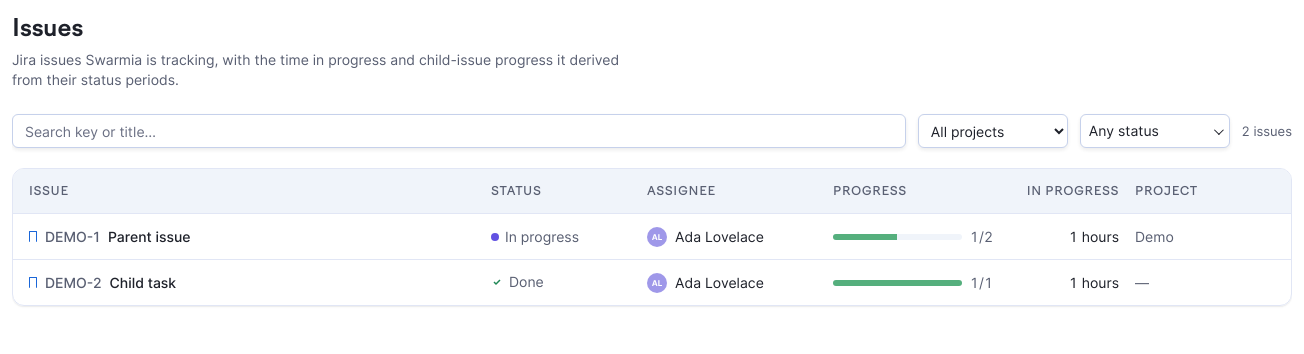
IssueListPage › sends combined search, project, and multiple status filters and shows an empty result
Expected: the text "2 issues" is shown, x1=1242 y1=121 x2=1292 y2=141
Type "DEMO" into the search field with placeholder "Search key or title…" at (459, 131), box x1=25 y1=115 x2=893 y2=147
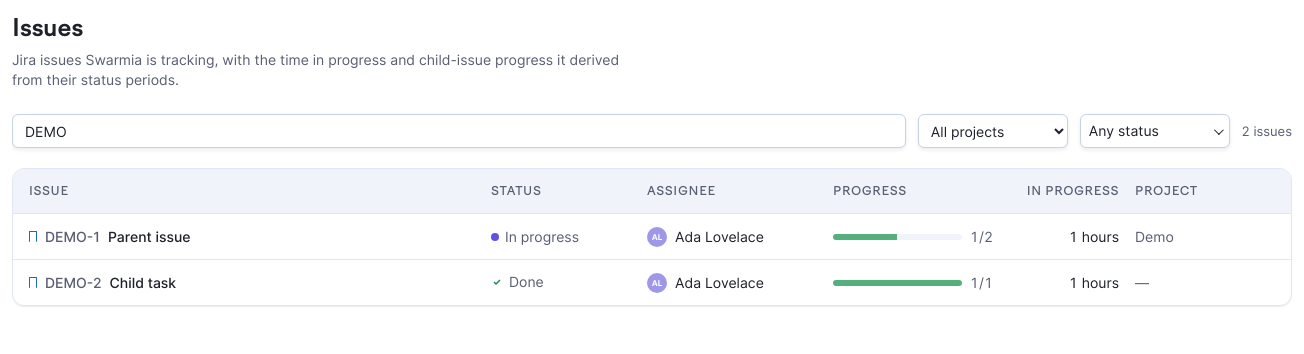
Select "Demo" in the dropdown named "Project" at (993, 131), box x1=918 y1=114 x2=1068 y2=148
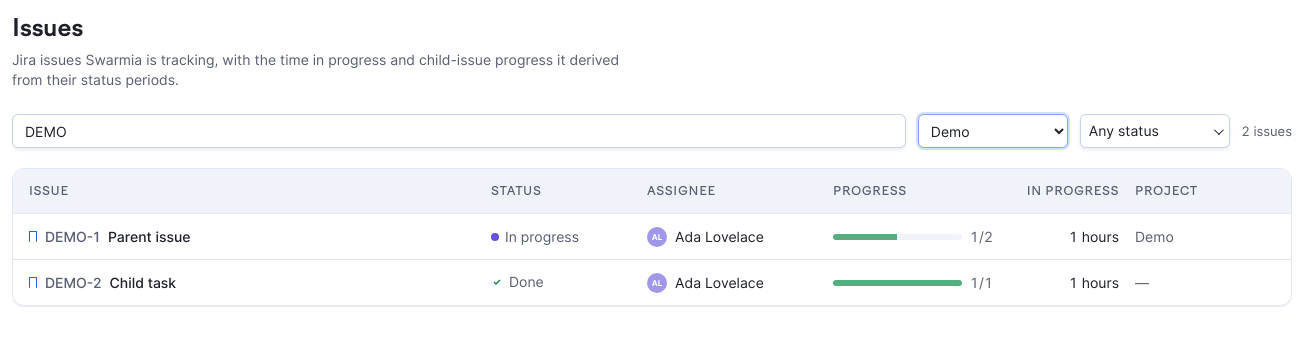
Click the button "Any status" at (1155, 131), box x1=1080 y1=114 x2=1230 y2=148
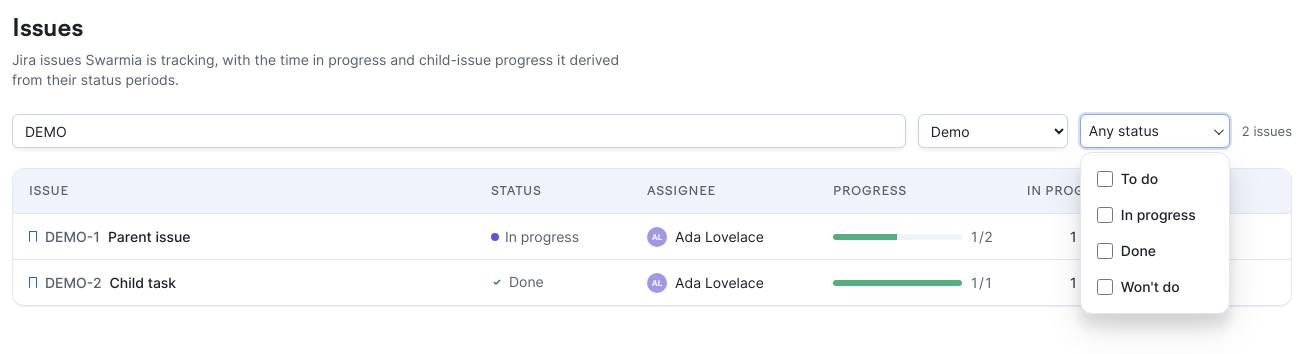
Click the checkbox labelled "Done" at (1105, 251), box x1=1097 y1=243 x2=1113 y2=259
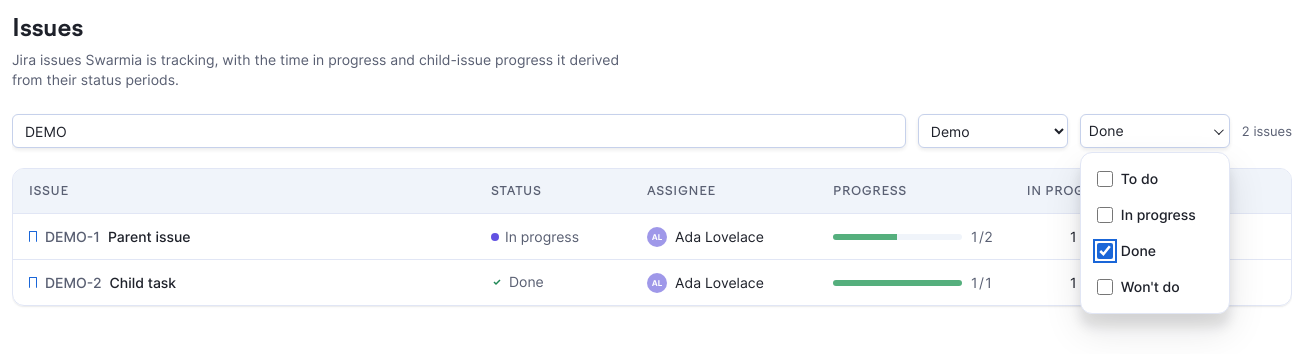
Click the checkbox labelled "In progress" at (1105, 215), box x1=1097 y1=207 x2=1113 y2=223
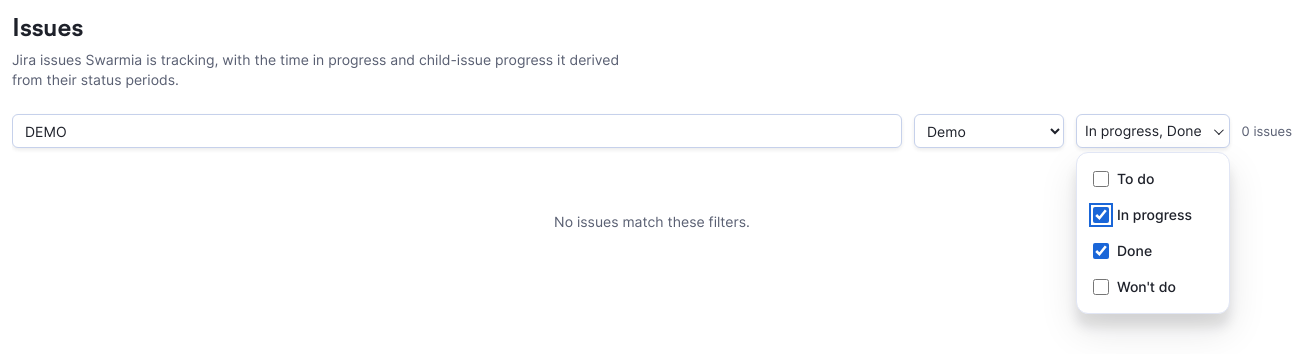
Expected: the text "No issues match these filters." is shown, x1=554 y1=213 x2=750 y2=230
